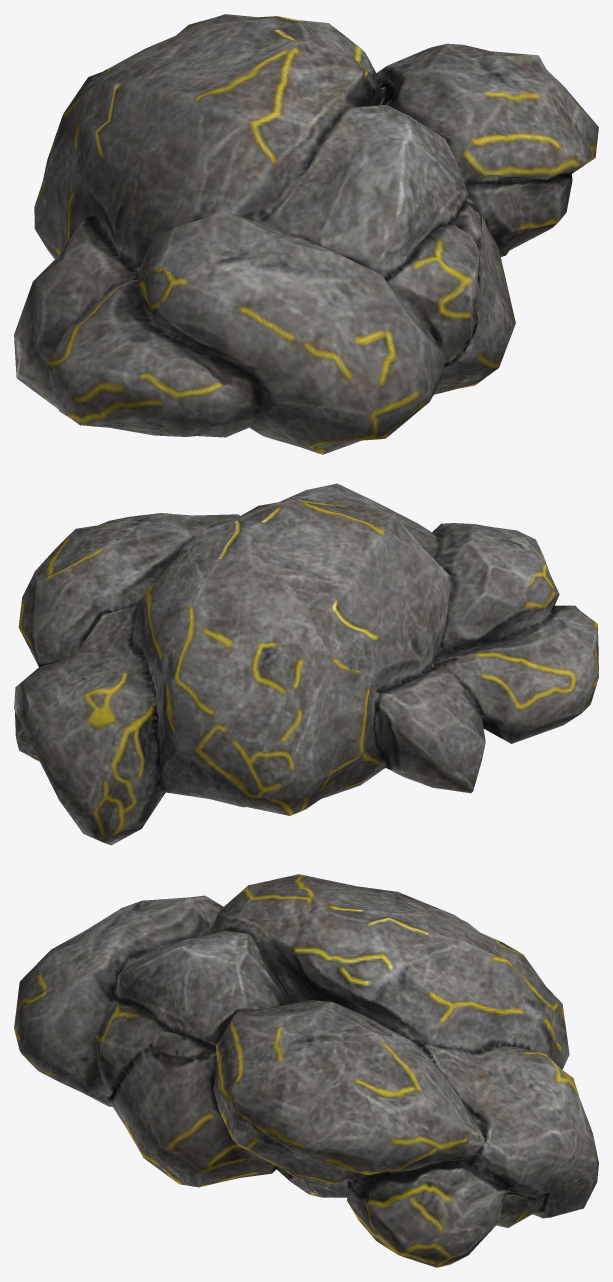
Rendered from mine_metal_temperate_round.glb.
3 views of the same model, one above another, from view 1: azimuth 30°, elevation 25°; view 2: azimuth 150°, elevation 25°; view 3: azimuth 270°, elevation 25° (orthographic). The views are drawn at different scales.
Parts seen in each view (by area): view 1: mine_metal_temperate_round_part0; view 2: mine_metal_temperate_round_part0; view 3: mine_metal_temperate_round_part0.
Part boxes in pixels (<box>): mine_metal_temperate_round_part0: <box>14,14,598,454</box>; mine_metal_temperate_round_part0: <box>14,483,598,845</box>; mine_metal_temperate_round_part0: <box>14,874,598,1267</box>.
Size of the model in its own units: 3.96 by 2.18 by 4.08.
Materials: 1 (1 with a texture image).
